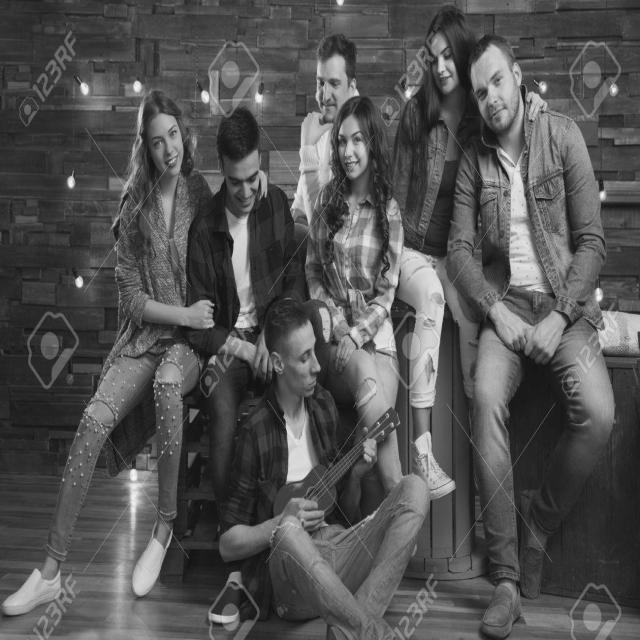person: (432, 28, 622, 619), (78, 55, 204, 625), (209, 300, 406, 631), (184, 88, 305, 510), (393, 6, 481, 522), (319, 115, 410, 485), (292, 32, 362, 238)
